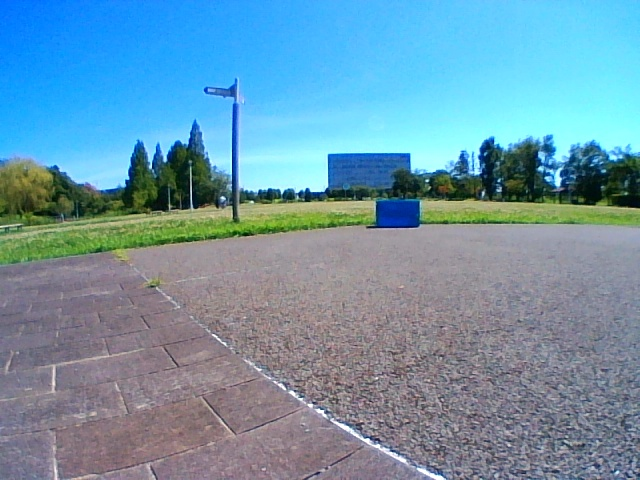blue_box: (376, 199, 419, 228)
